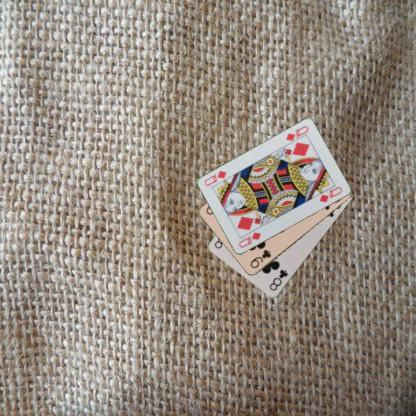8c: (267, 267, 289, 292)
9c: (247, 247, 272, 270)
Qd: (283, 123, 310, 147), (236, 230, 262, 249)
